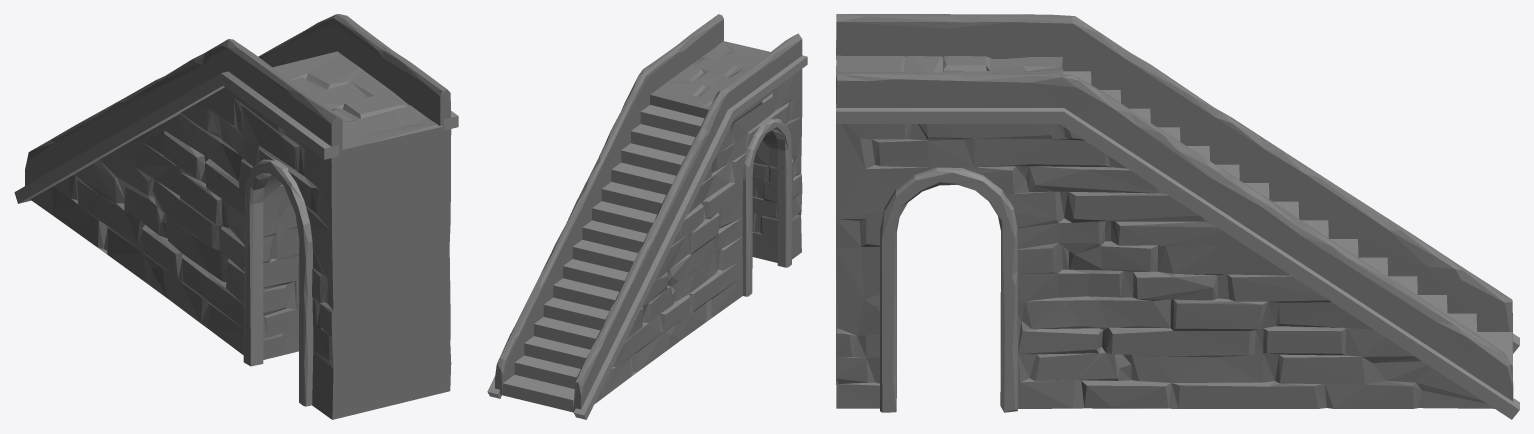
File: castle_bridge_a.FBX
3 renders of one model, left to right at view 1: azimuth 30°, elevation 25°; view 2: azimuth 150°, elevation 25°; view 3: azimuth 270°, elevation 25°, orthographic. The views are drawn at different scales.
Parts seen in each view (by area): view 1: castle_bridge_a; view 2: castle_bridge_a; view 3: castle_bridge_a.
Boxes of the visible parts, box(x1,y1,x2,y2) form: castle_bridge_a: box(14, 14, 458, 419); castle_bridge_a: box(487, 14, 807, 419); castle_bridge_a: box(836, 14, 1519, 419).
Bounding box in the file's own units: 2.02 × 4.44 × 8.08.
